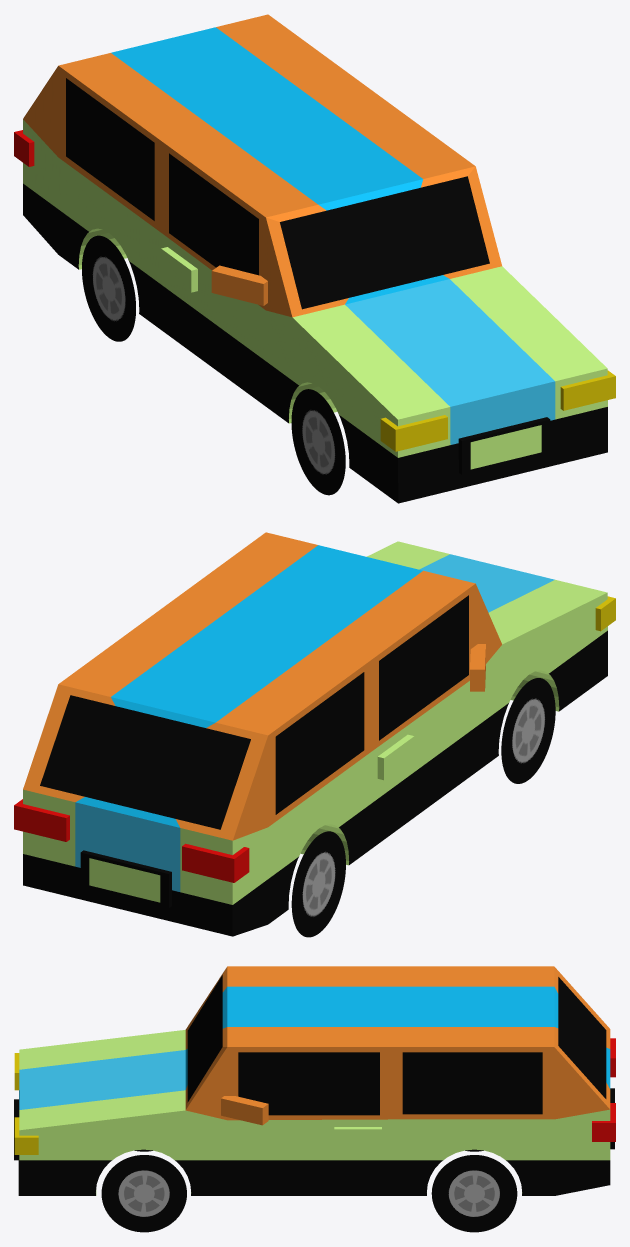
The model's file is Mobil_2_Coklat_D.fbx.
3 renders of one model, top to bottom at view 1: azimuth 30°, elevation 25°; view 2: azimuth 150°, elevation 25°; view 3: azimuth 270°, elevation 25°, orthographic. The views are drawn at different scales.
Visible parts, largest first — view 1: Mobil2; view 2: Mobil2; view 3: Mobil2.
Part boxes in pixels (<box>): Mobil2: <box>14,14,615,503</box>; Mobil2: <box>14,532,615,937</box>; Mobil2: <box>14,966,615,1232</box>.
Bounding box in the file's own units: 521 × 429 × 1261.
Materials: 5 (3 with a texture image).
